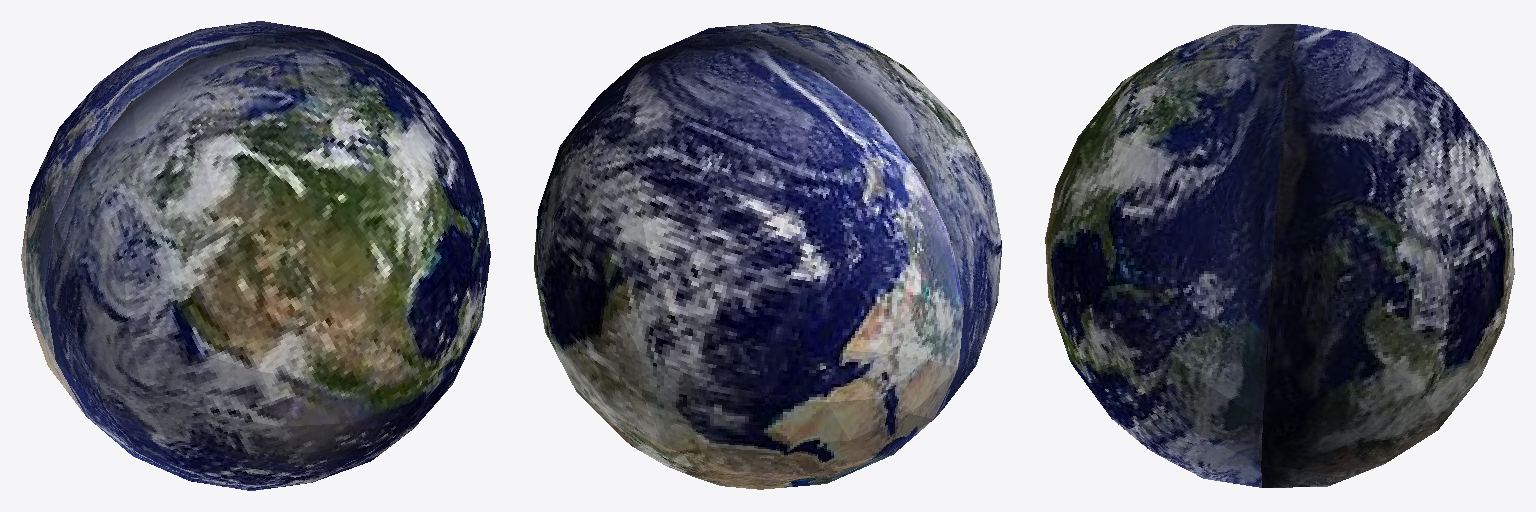
The picture shows the model from 3 angles: view 1: azimuth 30°, elevation 25°; view 2: azimuth 150°, elevation 25°; view 3: azimuth 270°, elevation 25°; orthographic projection.
Visible parts, largest first — view 1: Icosphere; view 2: Icosphere; view 3: Icosphere.
Part boxes in pixels (left/top/right/bottom): Icosphere: left=21, top=21, right=490, bottom=490; Icosphere: left=534, top=22, right=1001, bottom=489; Icosphere: left=1045, top=24, right=1514, bottom=487.
Bounding box in the file's own units: 0.0998 × 0.0998 × 0.0997.
1 materials, 1 textured.